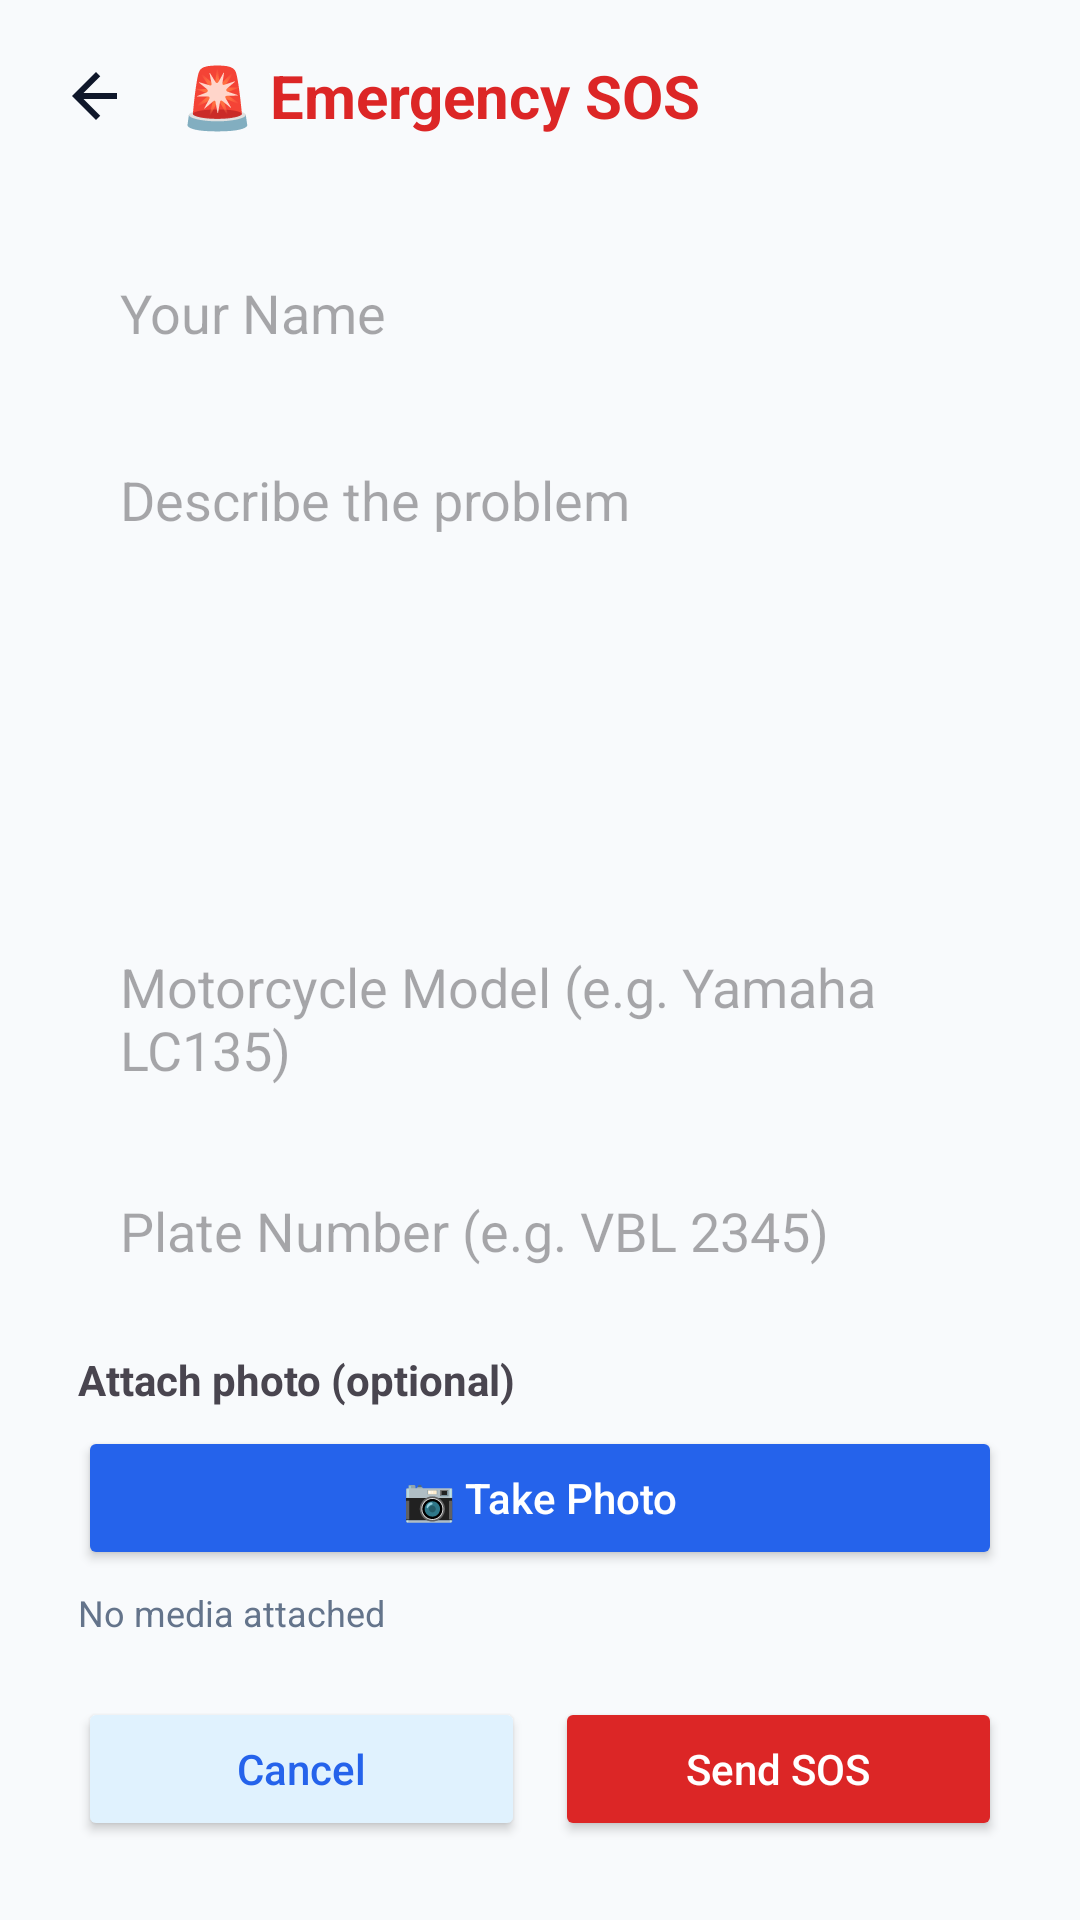

Icon bounding boxes for this 1080*1920 phone screenshot, format (x1, y1, x2, y2):
Back: (72, 72, 117, 120)
